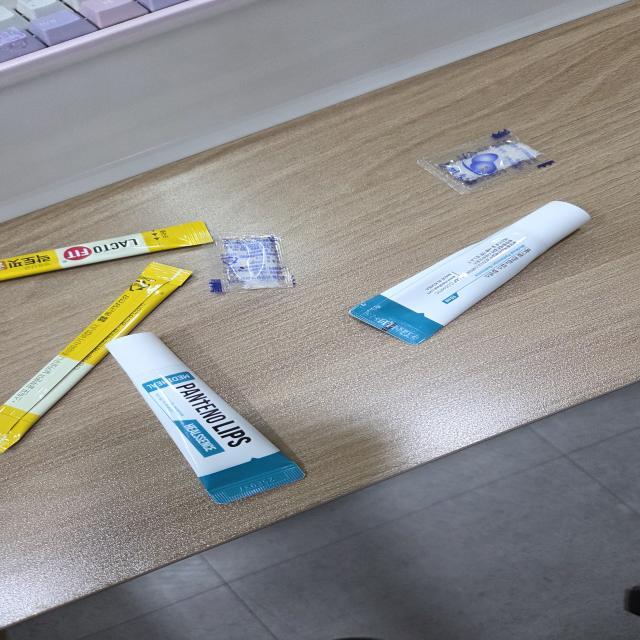lacto: (0, 260, 196, 456), (0, 220, 215, 282)
lib: (345, 198, 595, 348), (105, 330, 310, 504)
salt: (414, 128, 556, 195), (208, 230, 299, 294)
